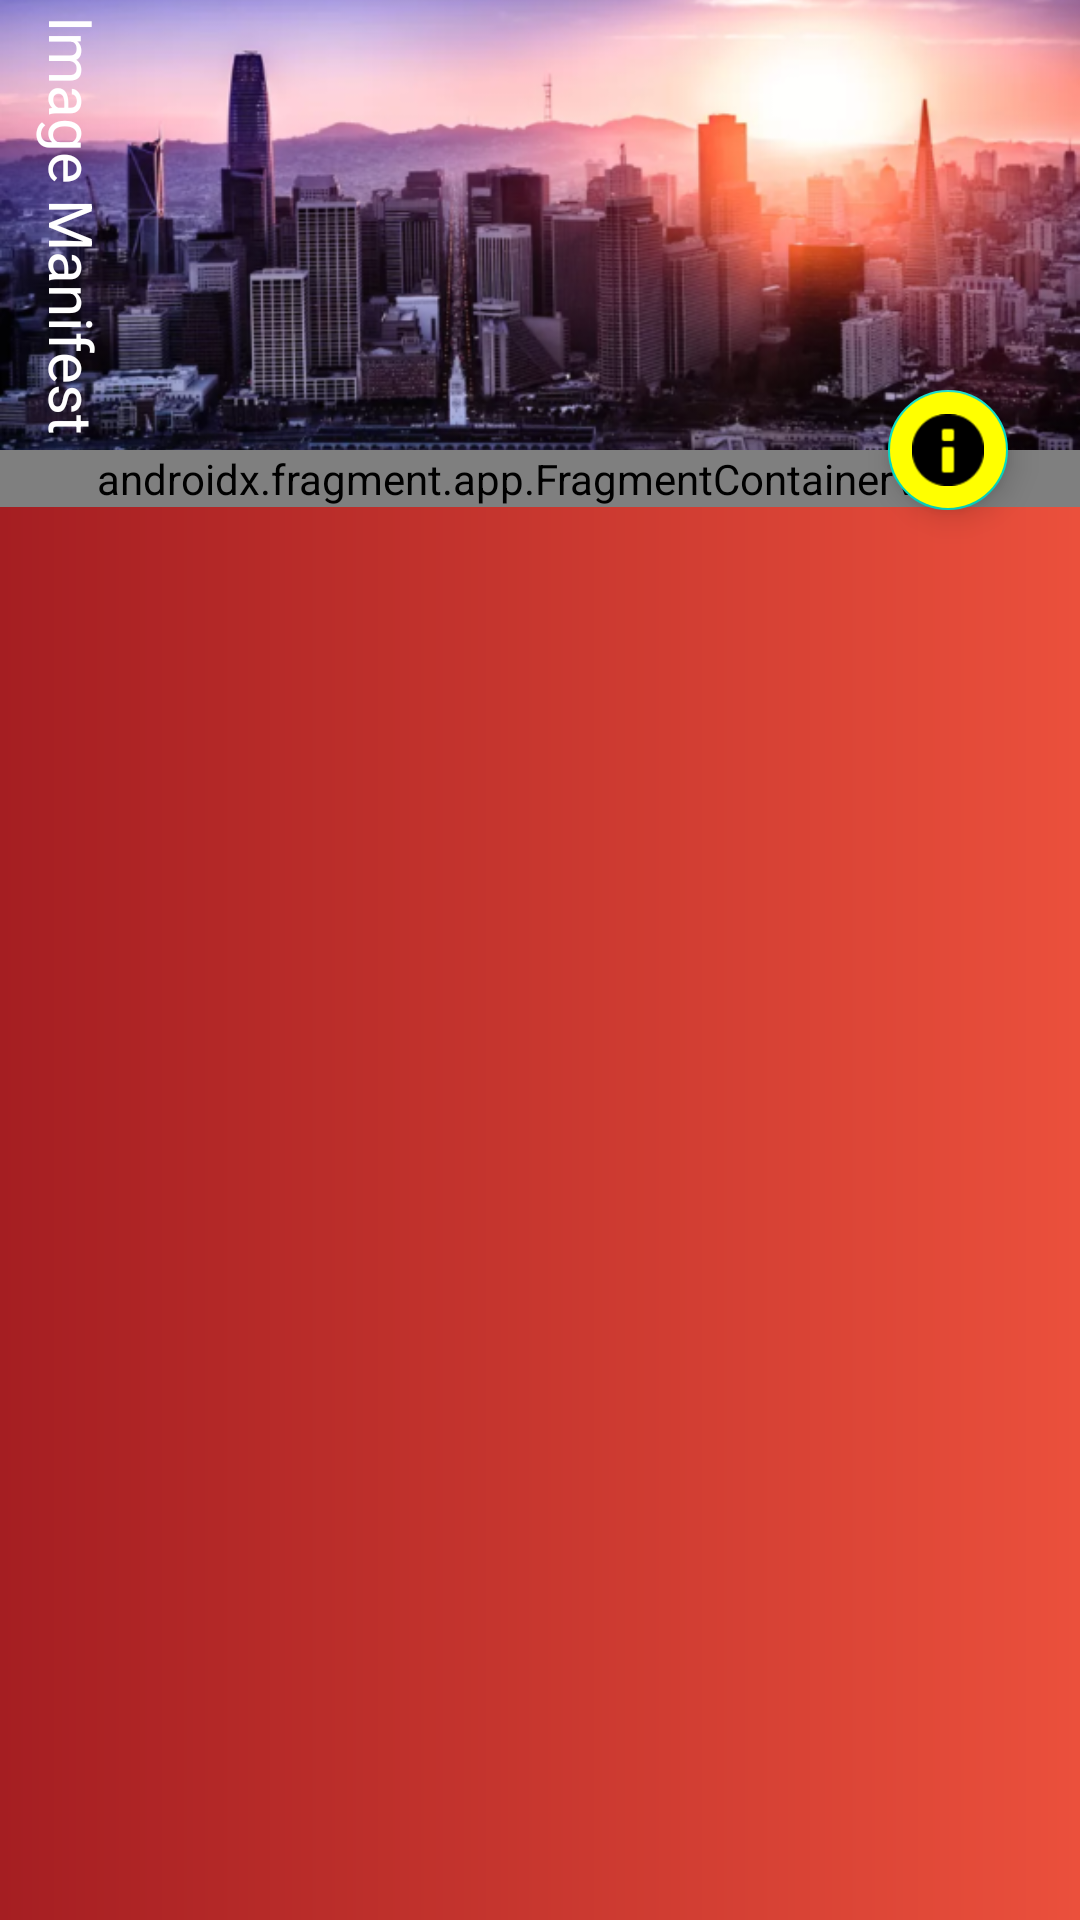

Screen size 1080px×1920px. Icon name, then its center in pixels as point (x, y):
About this app: point (948, 450)
